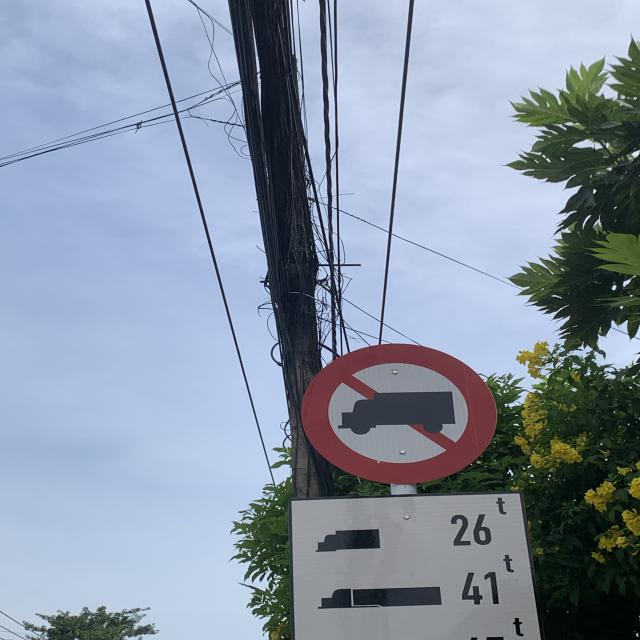Cam_Xe_Tai: (302, 343, 498, 482)
